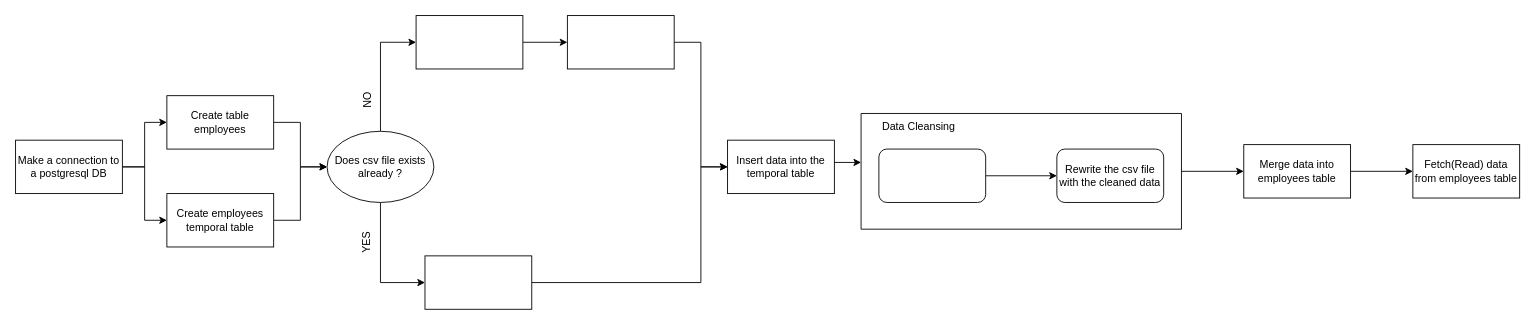
This 1535x325 diagram has some shape labels left out. Here are the shapes that lost their labels. From the top down, the centre of each, then its label:
At point 469,42: "import employees data via GET request".
At point 620,42: "write employees data into a csv file".
At point 932,175: "Cleaning temporal table via sql statement".
At point 478,282: "update data or add new rows".
